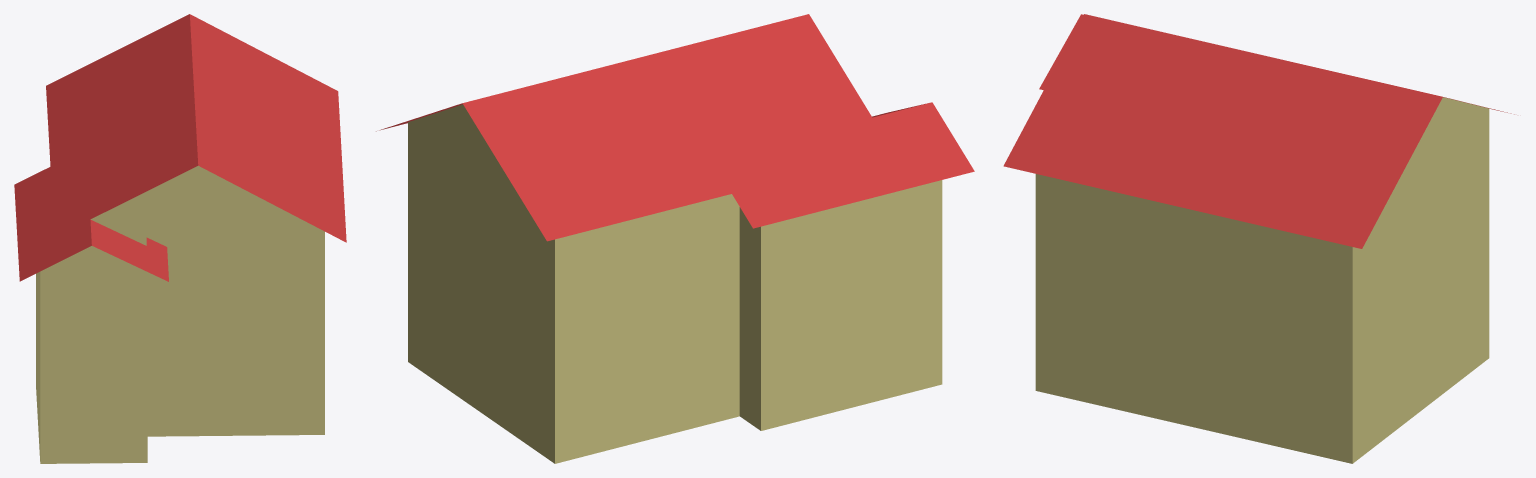
3 views of the same model, side by side, from view 1: azimuth 30°, elevation 25°; view 2: azimuth 150°, elevation 25°; view 3: azimuth 270°, elevation 25° (orthographic). The views are drawn at different scales.
Visible parts, largest first — view 1: group_5, group_3, group_9, group_4, group_7; view 2: group_5, group_3, group_4; view 3: group_5, group_3, group_4.
Boxes of the visible parts, x1,y1,x2,y2 form: group_5: (36,165,324,463); group_3: (20,14,346,281); group_9: (91,246,147,463); group_4: (14,14,346,280); group_7: (90,219,168,281); group_5: (408,104,942,463); group_3: (376,14,974,241); group_4: (443,14,973,228); group_5: (1035,97,1489,463); group_3: (1003,14,1447,235); group_4: (1004,98,1514,248).
Bounding box in the file's own units: 17.46 × 16.21 × 10.98.
